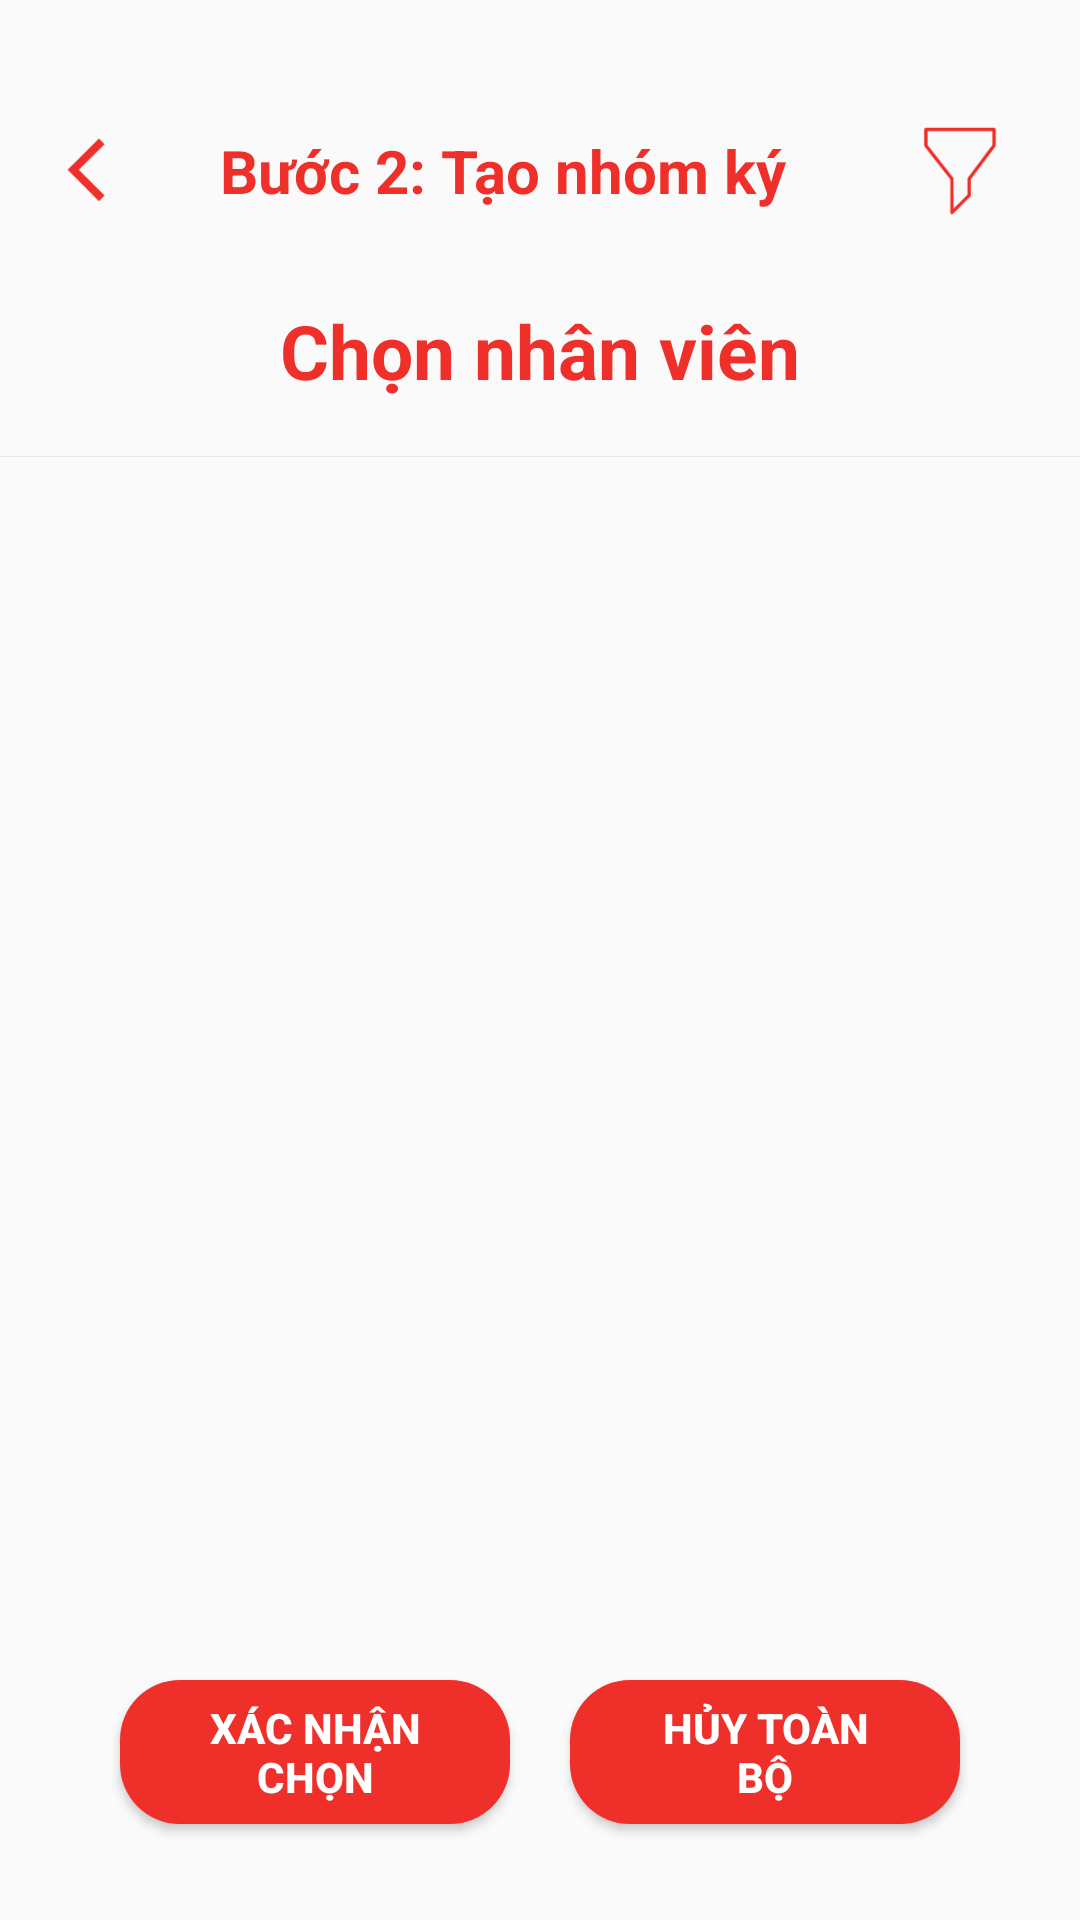

Icon click points for this 1080w x 1920h phone screenshot, format (x,y):
filter: (960,171)
left: (86,169)
